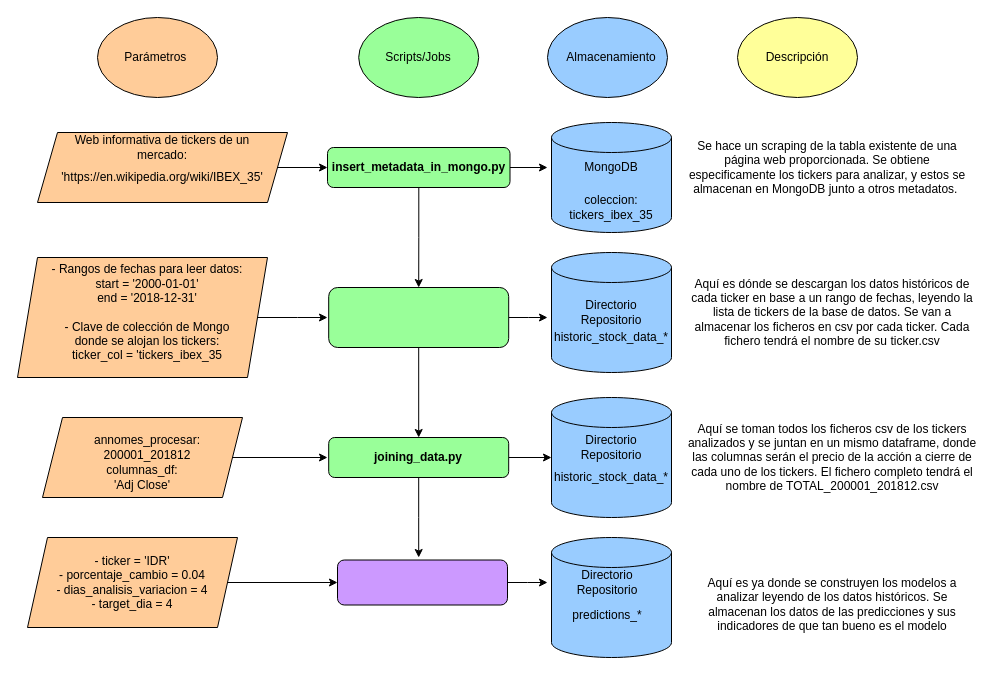
Some shapes in this 1000 by 675 pixel diagram are drawn without their labels. The centre of each missing label's shape, as x and y in pixels:
"build_ml_models.py" goes at point 422,582.
"reading_historic_stock_api.py" goes at point 418,317.
